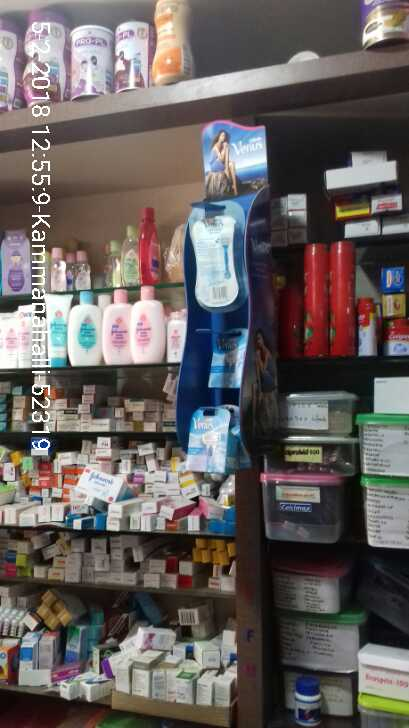venus: (185, 407, 236, 468), (200, 325, 244, 390)
